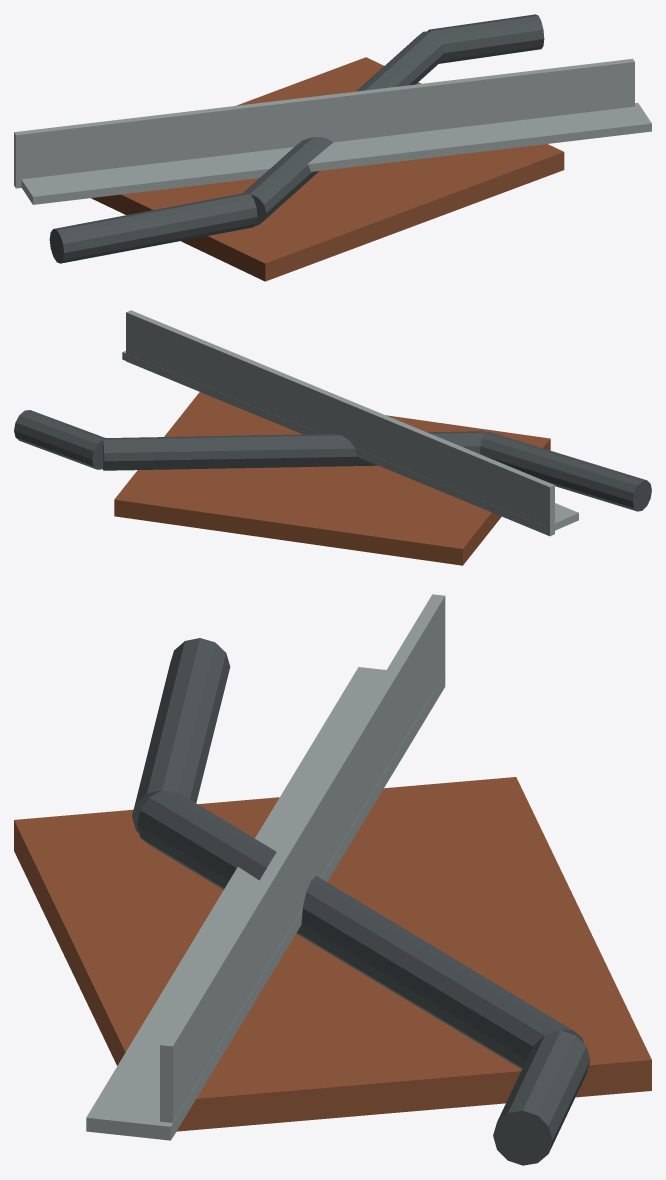
Rendered from MAT_Scrap.glb.
The picture shows the model from 3 angles, top to bottom: view 1: azimuth 30°, elevation 25°; view 2: azimuth 150°, elevation 25°; view 3: azimuth 270°, elevation 25°; orthographic projection. The views are drawn at different scales.
Parts seen in each view (by area): view 1: AngleWeb, Plate, BentRebar, AngleFlange; view 2: Plate, AngleWeb, BentRebar, AngleFlange; view 3: Plate, BentRebar, AngleWeb, AngleFlange.
Boxes of the visible parts, x1,y1,x2,y2 form: AngleWeb: (14,58,634,188); Plate: (91,57,564,281); BentRebar: (49,14,544,263); AngleFlange: (21,103,651,204); Plate: (114,392,550,565); AngleWeb: (126,310,554,536); BentRebar: (14,410,651,511); AngleFlange: (122,351,578,534); Plate: (14,777,651,1131); BentRebar: (132,638,590,1165); AngleWeb: (160,594,445,1136); AngleFlange: (86,667,442,1140).
Size of the model in its own units: 0.6048 by 0.0875 by 0.3361.
